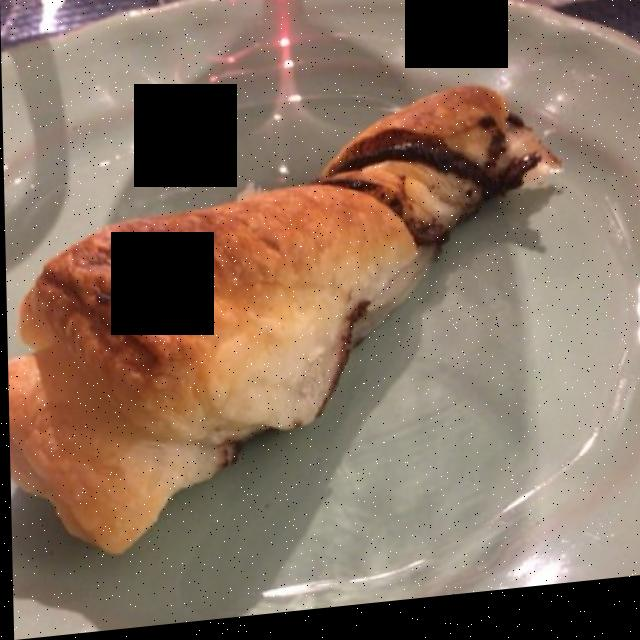dough-puff-pastry-shortcrust-bread-pizza-dough: (7, 97, 561, 551)
hazelnut-chocolate-spread-nutella-ovomaltine-caotina: (298, 124, 543, 278)
